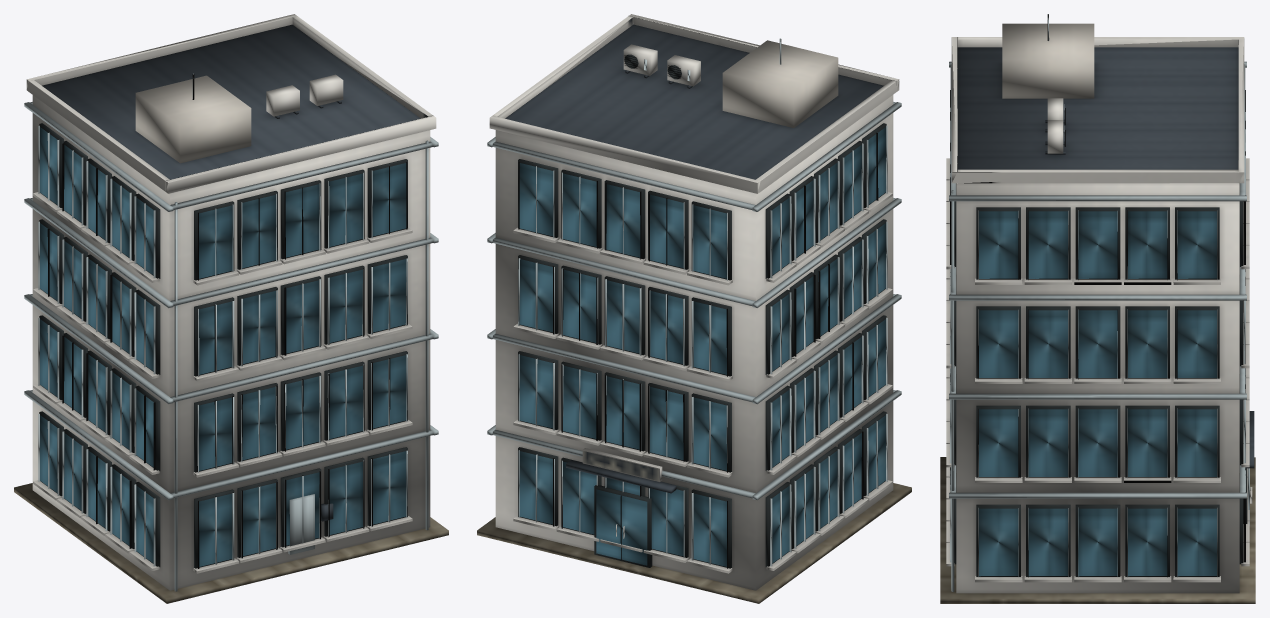
Rendered from office_002.lod1.obj.
The picture shows the model from 3 angles, left to right: view 1: azimuth 30°, elevation 25°; view 2: azimuth 150°, elevation 25°; view 3: azimuth 270°, elevation 25°; orthographic projection. The views are drawn at different scales.
Parts seen in each view (by area): view 1: office_002; view 2: office_002; view 3: office_002.
Part boxes in pixels (x1,y1,x2,y2): office_002: (14,14,448,603); office_002: (477,14,911,603); office_002: (940,14,1255,603).
Size of the model in its own units: 9.1 by 14.57 by 8.54.
1 material, 1 textured.
